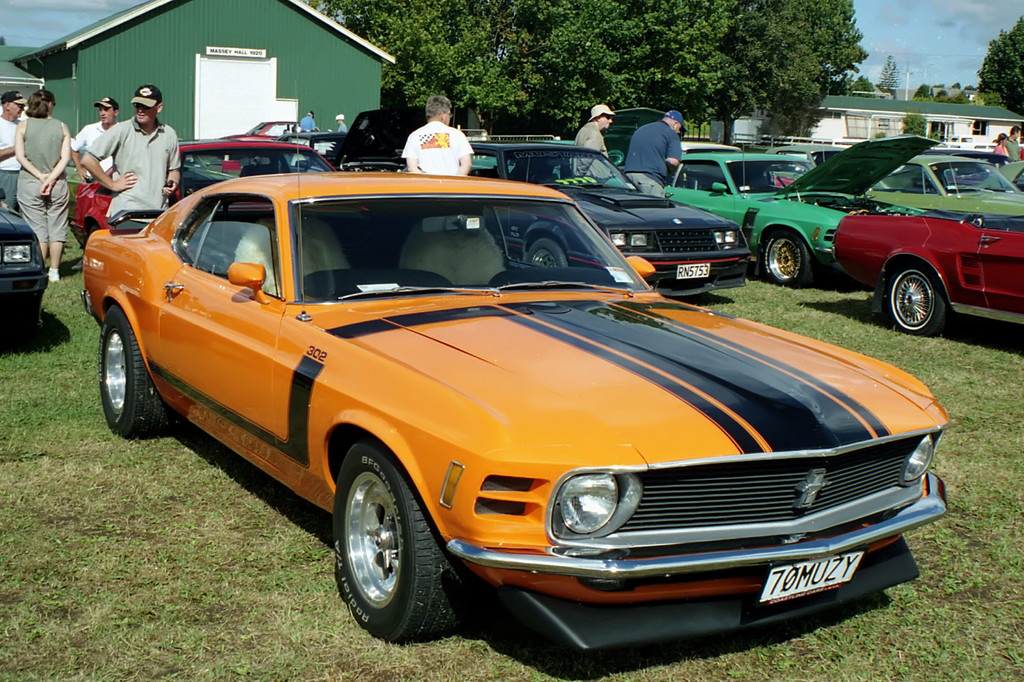Car: (73, 170, 961, 652), (650, 126, 942, 298), (459, 136, 757, 278), (73, 131, 352, 249), (832, 183, 1023, 346), (850, 148, 1023, 225), (0, 186, 55, 343), (275, 123, 401, 190), (874, 138, 1013, 197), (236, 111, 320, 140), (672, 133, 753, 156), (980, 157, 1023, 199), (771, 141, 851, 162)
